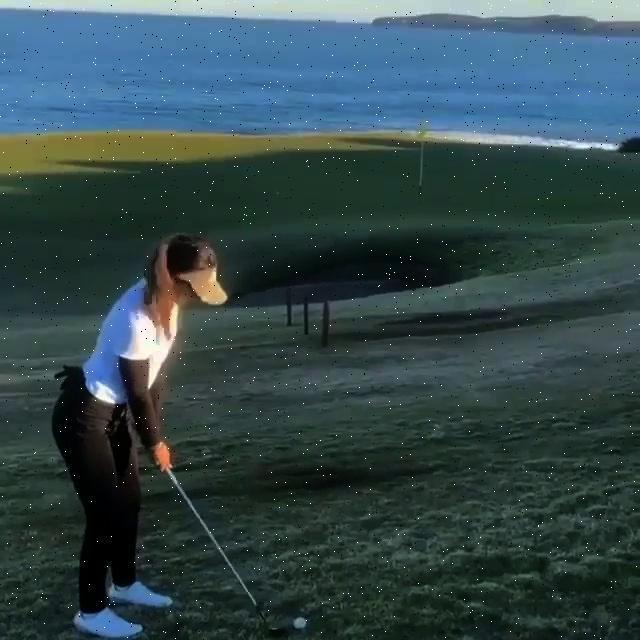ClubHead: (268, 624, 288, 636)
GolfBall: (293, 616, 306, 631)
